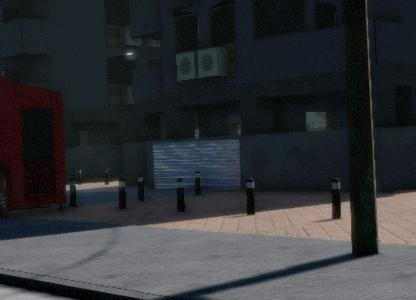Speed_60: (238, 94, 281, 136)
